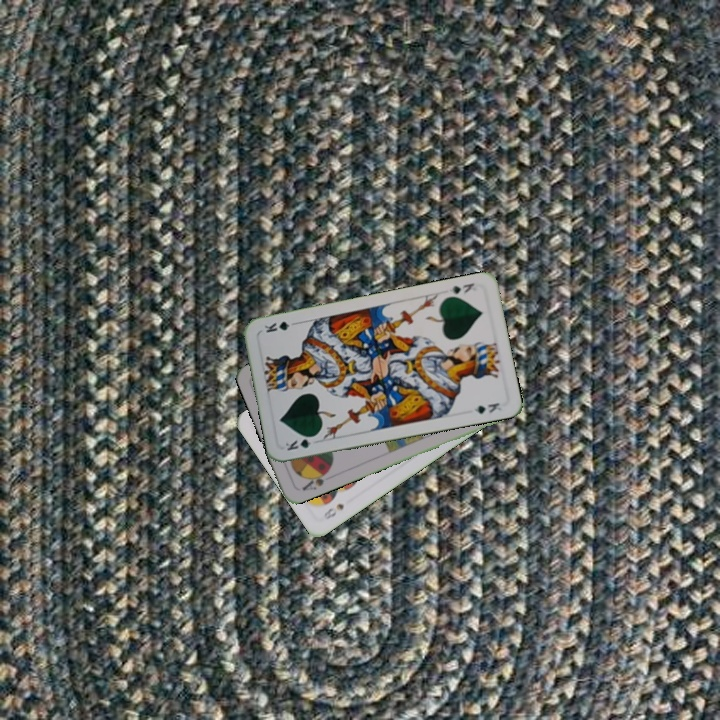GK: (280, 431, 321, 453), (445, 279, 482, 297)
S8: (320, 499, 347, 522)
SA: (298, 465, 332, 493)
